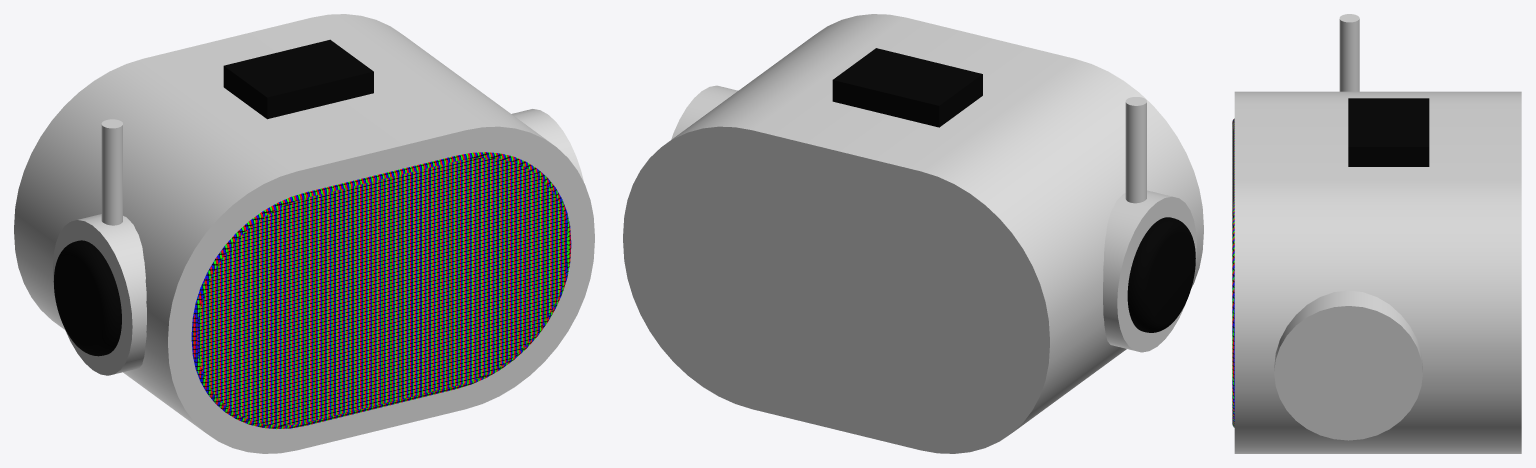
The model's file is bot-drafts-3.glb.
3 views of the same model, side by side, from view 1: azimuth 30°, elevation 25°; view 2: azimuth 150°, elevation 25°; view 3: azimuth 270°, elevation 25° (orthographic). The views are drawn at different scales.
Parts seen in each view (by area): view 1: Cube, Cube.001, Cube.002, Cylinder, Cylinder.001, Cylinder.002; view 2: Cube, Cube.002, Cylinder, Cylinder.001, Cylinder.002; view 3: Cube, Cylinder, Cube.002, Cylinder.002, Cube.001.
Boxes of the visible parts, x1=… form: Cube: x1=14, y1=14, x2=594, y2=453; Cube.001: x1=191, y1=152, x2=571, y2=429; Cube.002: x1=223, y1=39, x2=373, y2=119; Cylinder: x1=53, y1=109, x2=583, y2=375; Cylinder.001: x1=53, y1=240, x2=121, y2=356; Cylinder.002: x1=101, y1=119, x2=122, y2=225; Cube: x1=623, y1=14, x2=1203, y2=453; Cube.002: x1=832, y1=48, x2=982, y2=127; Cylinder: x1=671, y1=85, x2=1196, y2=352; Cylinder.001: x1=1127, y1=217, x2=1195, y2=332; Cylinder.002: x1=1125, y1=97, x2=1146, y2=203; Cube: x1=1234, y1=91, x2=1521, y2=453; Cylinder: x1=1274, y1=290, x2=1422, y2=440; Cube.002: x1=1348, y1=98, x2=1429, y2=166; Cylinder.002: x1=1339, y1=14, x2=1359, y2=91; Cube.001: x1=1232, y1=118, x2=1234, y2=427.
Bounding box in the file's own units: 3.52 × 2.35 × 2.02.
Materials: 3 (1 with a texture image).
